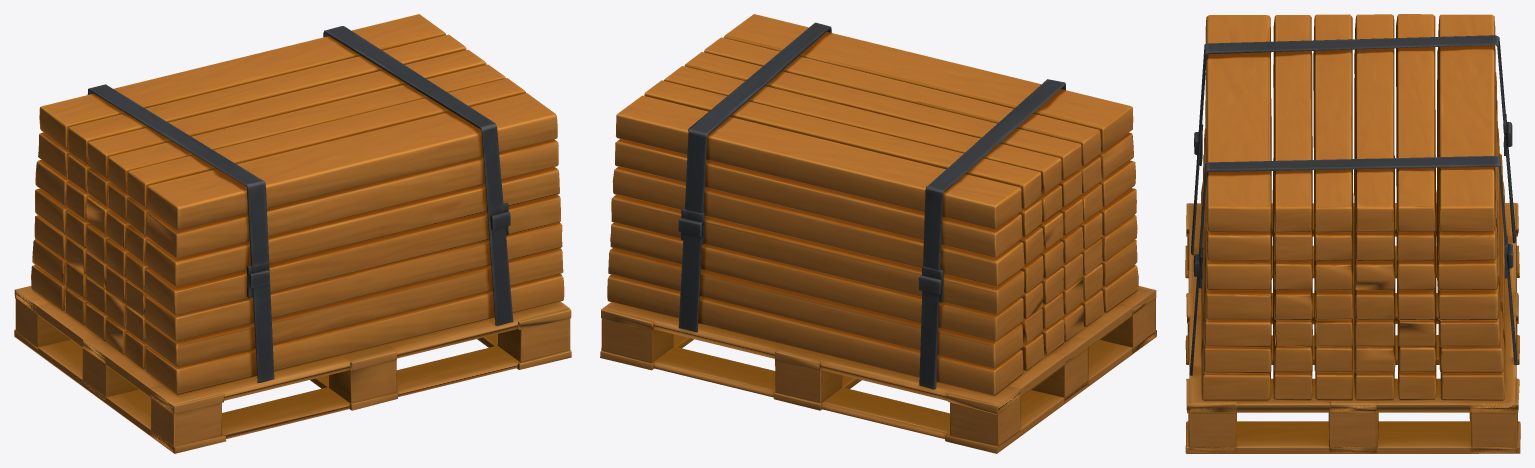
Rendered from timber-plank-pallet.glb.
3 views of the same model, side by side, from view 1: azimuth 30°, elevation 25°; view 2: azimuth 150°, elevation 25°; view 3: azimuth 270°, elevation 25° (orthographic). The views are drawn at different scales.
Parts seen in each view (by area): view 1: geometry_0; view 2: geometry_0; view 3: geometry_0.
Boxes of the visible parts, x1,y1,x2,y2 form: geometry_0: [14, 14, 571, 453]; geometry_0: [600, 14, 1156, 453]; geometry_0: [1185, 14, 1520, 453].
Size of the model in its own units: 1 by 0.5837 by 0.7058.
1 material, 1 textured.
